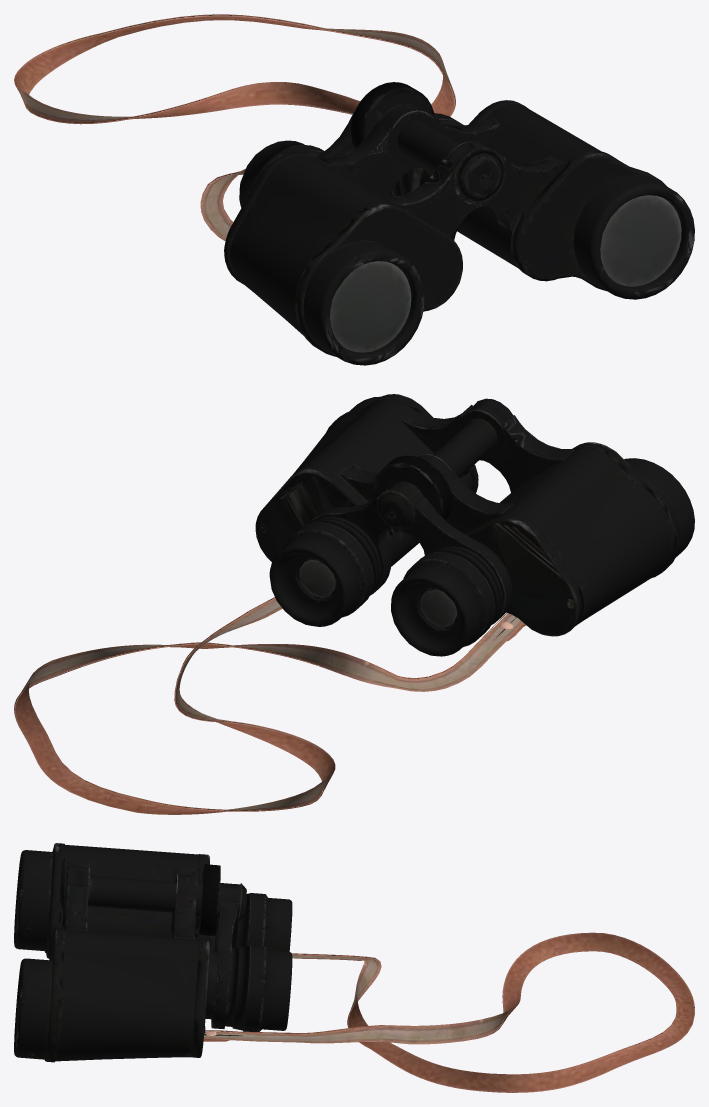
The model's file is binoculars.glb.
The picture shows the model from 3 angles, top to bottom: view 1: azimuth 30°, elevation 25°; view 2: azimuth 150°, elevation 25°; view 3: azimuth 270°, elevation 25°; orthographic projection. The views are drawn at different scales.
Visible parts, largest first — view 1: binoculars; view 2: binoculars; view 3: binoculars.
Part boxes in pixels (left/top/right/bottom): binoculars: left=14, top=14, right=694, bottom=365; binoculars: left=14, top=394, right=694, bottom=814; binoculars: left=14, top=843, right=694, bottom=1092.
Bounding box in the file's own units: 0.1669 × 0.0662 × 0.2879.
Materials: 2 (2 with a texture image).
